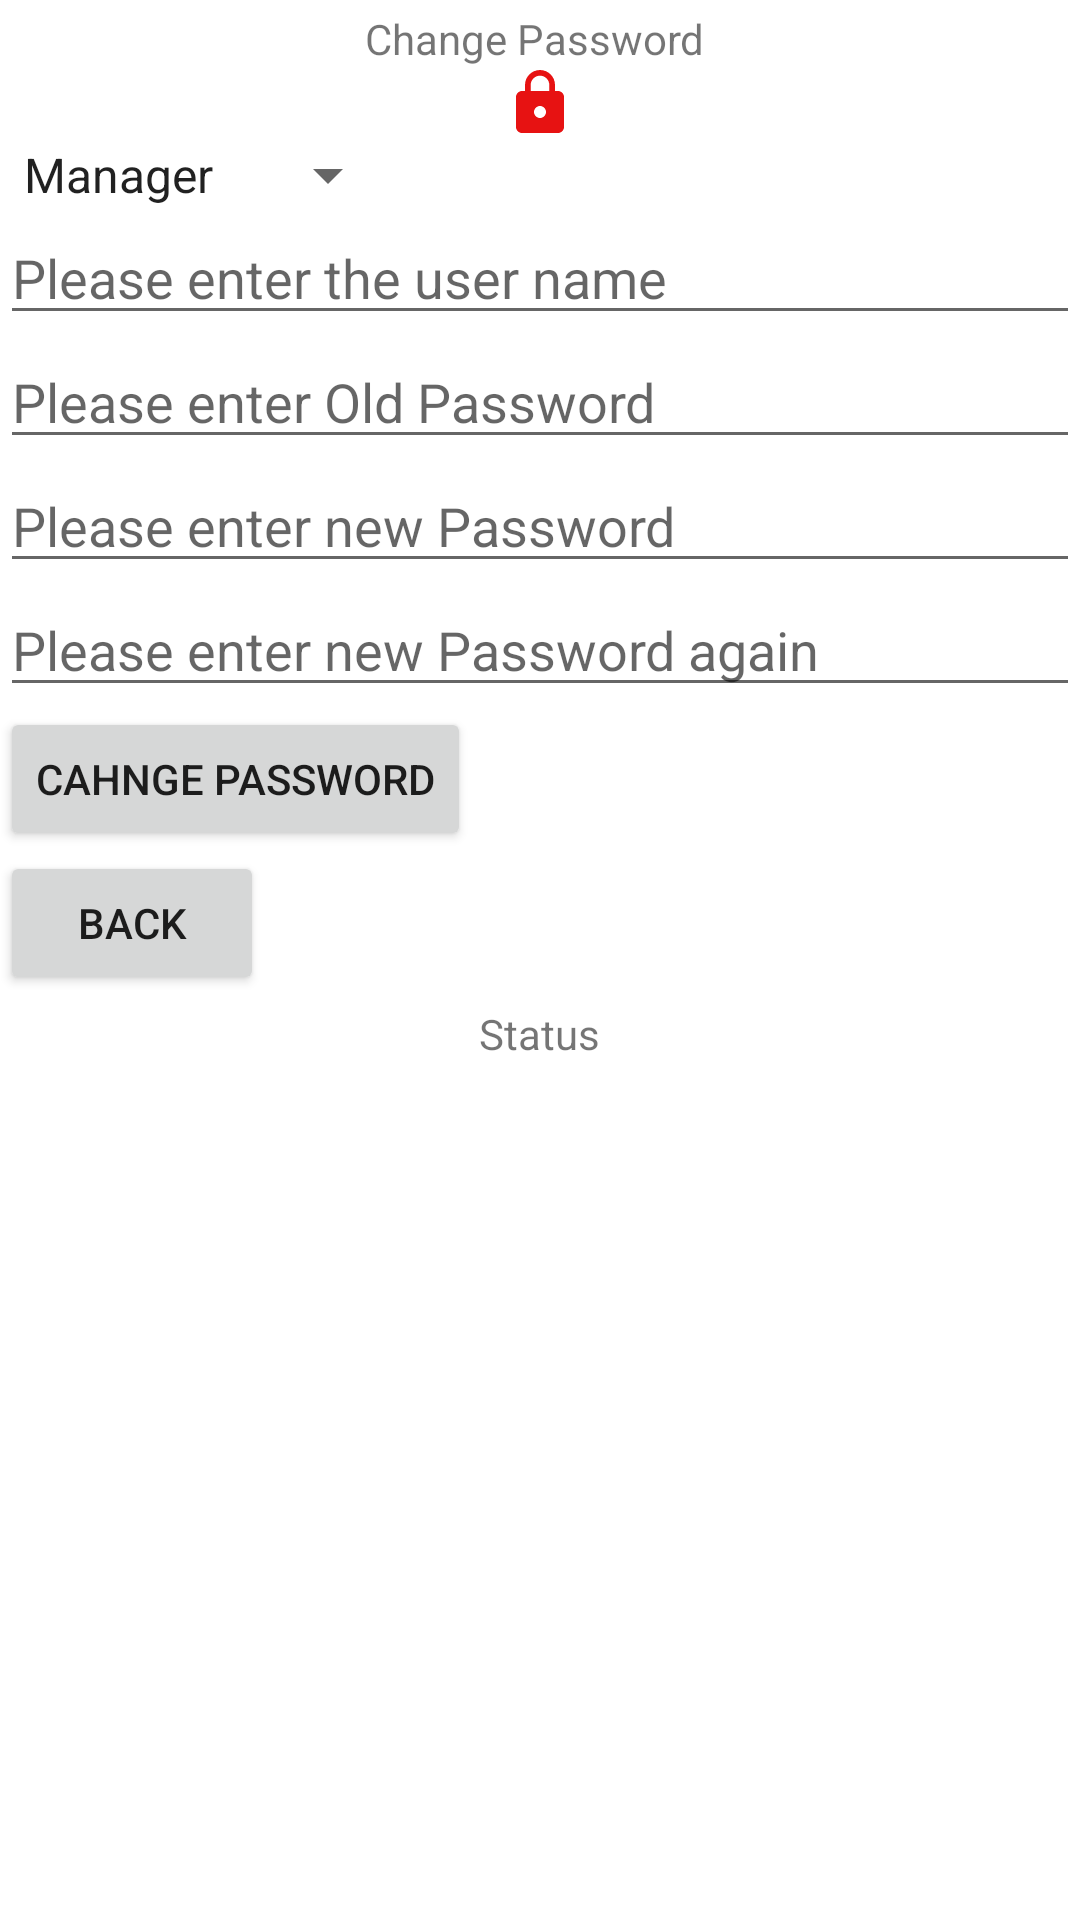

Where icons sit on this 1080 x 1920 app screen, as (x1, y1, x2, y2):
lock: (516, 70, 564, 133)
